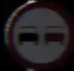No overtake: (10, 7, 68, 56)
